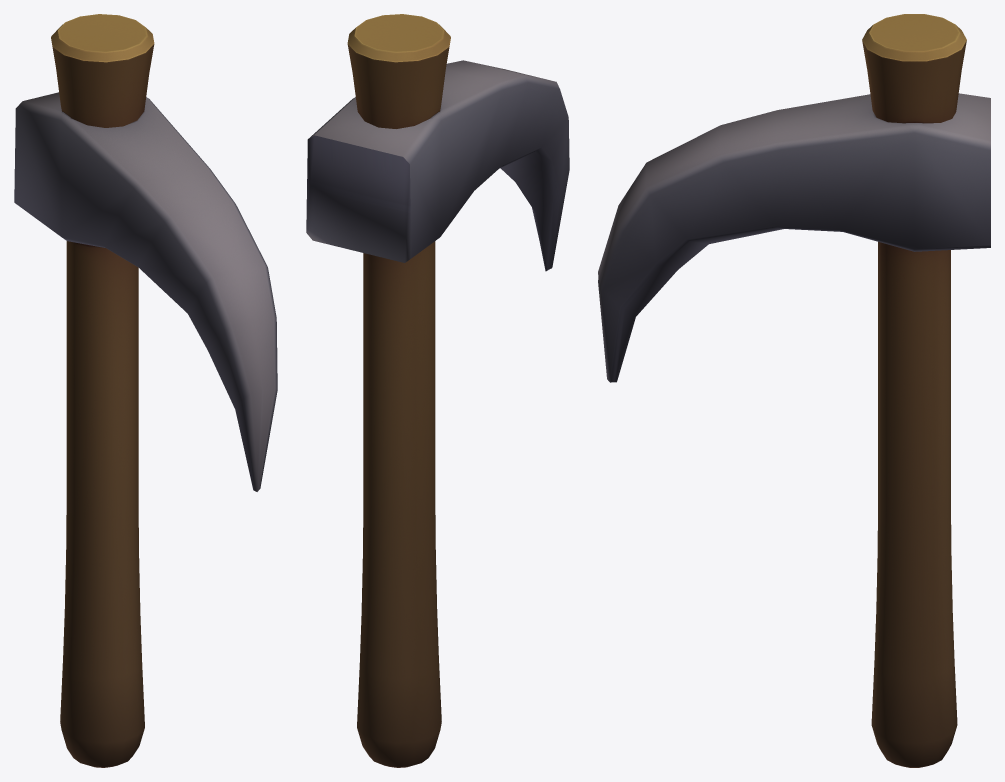
The model's file is Sickle.fbx.
3 views of the same model, side by side, from view 1: azimuth 30°, elevation 25°; view 2: azimuth 150°, elevation 25°; view 3: azimuth 270°, elevation 25° (orthographic).
Parts seen in each view (by area): view 1: Cube.003; view 2: Cube.003; view 3: Cube.003.
Boxes of the visible parts, left/top/right/bottom form: Cube.003: left=14, top=14, right=277, bottom=767; Cube.003: left=306, top=14, right=569, bottom=767; Cube.003: left=598, top=14, right=990, bottom=767.
Size of the model in its own units: 32.34 by 214 by 104.
Materials: 1 (1 with a texture image).
